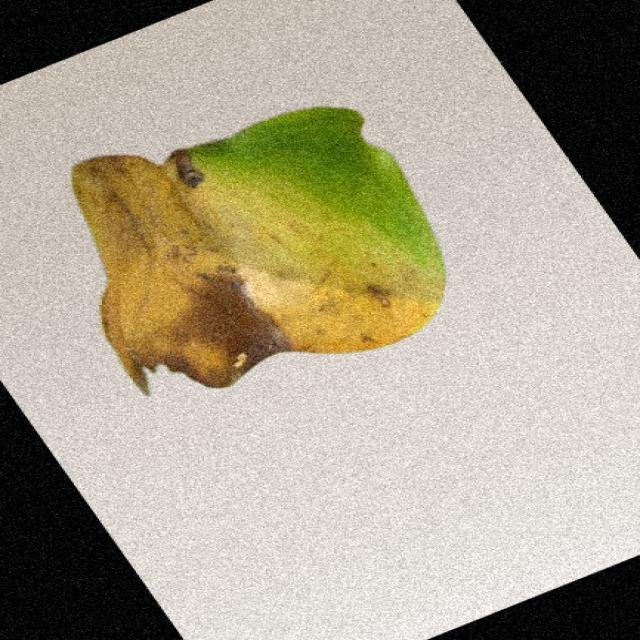daun berpenyakit kuning: (73, 108, 445, 392)
